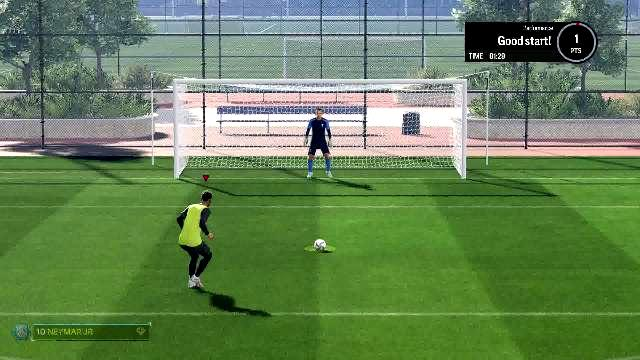bottom-left: (178, 132, 272, 178)
bottom-right: (364, 132, 458, 178)
center-down: (272, 132, 366, 176)
center-up: (273, 84, 369, 130)
circle: (305, 247, 335, 253)
football: (313, 238, 329, 252)
goalkeeper: (303, 107, 339, 179)
player: (174, 186, 222, 296)
top-left: (178, 86, 270, 132)
top-right: (370, 86, 462, 132)
